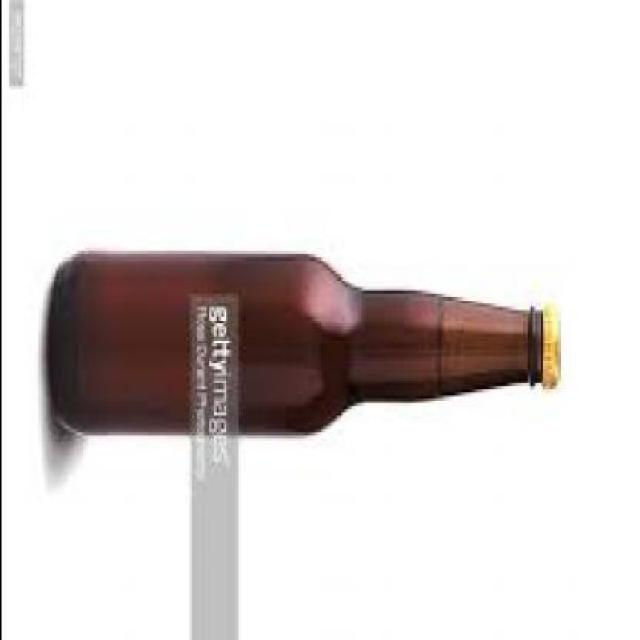GLASS: (44, 247, 542, 438)
METAL: (541, 310, 561, 382)
